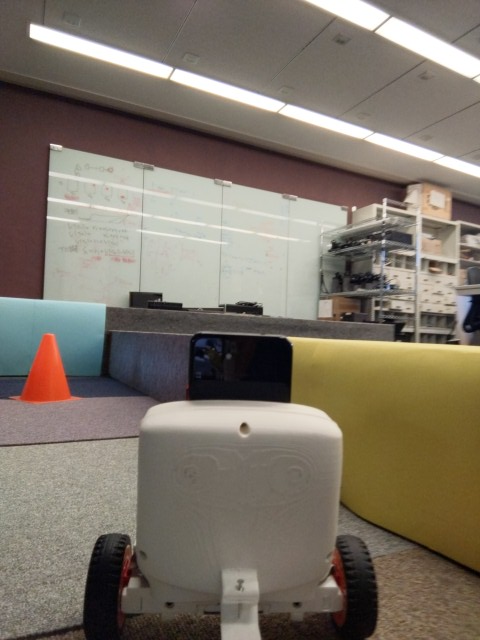br: (85, 331, 375, 640)
